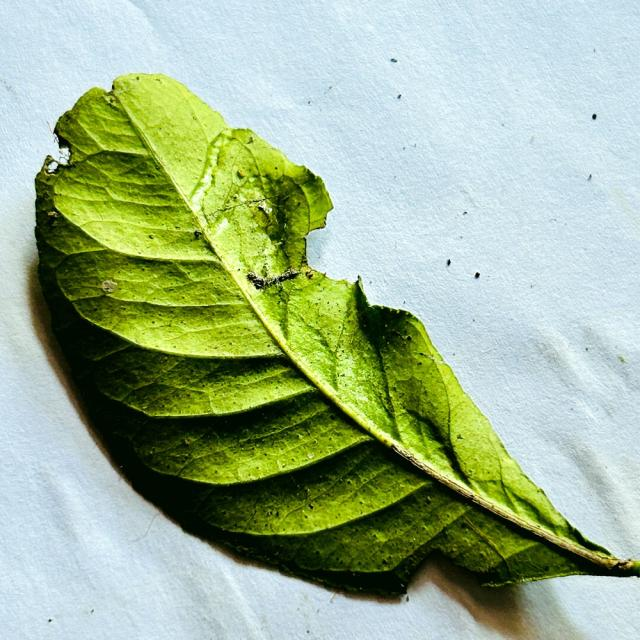Deficiency Leaf: (303, 201, 413, 318), (39, 120, 78, 165)
Lemon: (35, 74, 639, 595)
